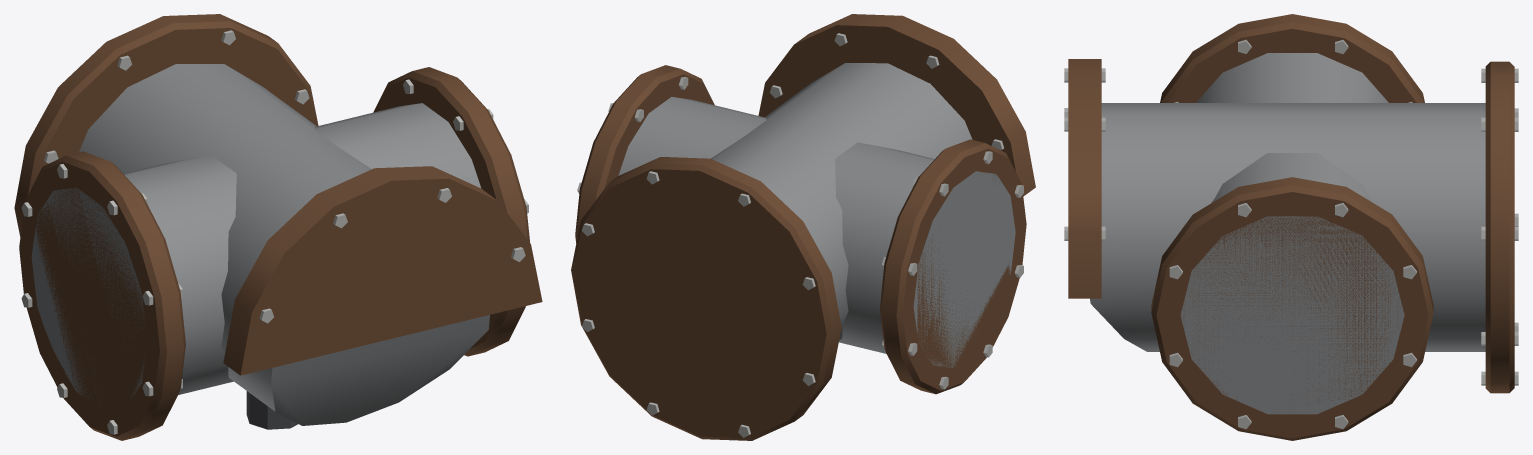
Rendered from pipe-cross.glb.
3 renders of one model, left to right at view 1: azimuth 30°, elevation 25°; view 2: azimuth 150°, elevation 25°; view 3: azimuth 270°, elevation 25°, orthographic. The views are drawn at different scales.
Visible parts, largest first — view 1: body; view 2: body; view 3: body.
Part boxes in pixels (<box>): body: <box>14,14,542,440</box>; body: <box>571,14,1035,440</box>; body: <box>1064,14,1518,440</box>.
Size of the model in its own units: 1.02 by 0.826 by 1.1.
